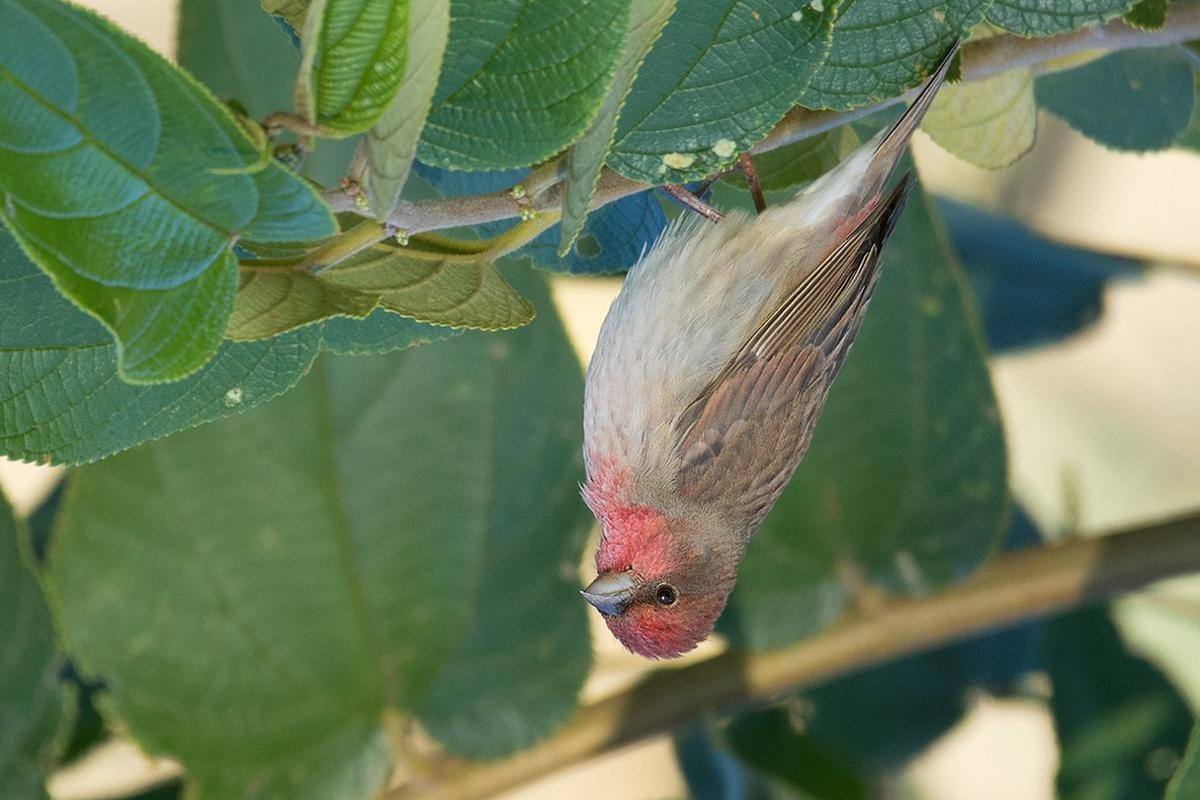rosefinch: (578, 62, 884, 672)
